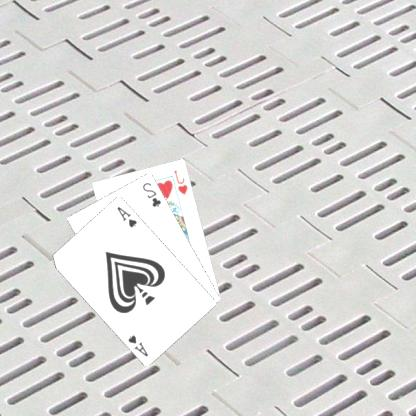2C: (141, 178, 165, 209)
AS: (127, 331, 152, 358), (116, 203, 141, 229)
JH: (173, 167, 191, 196)
